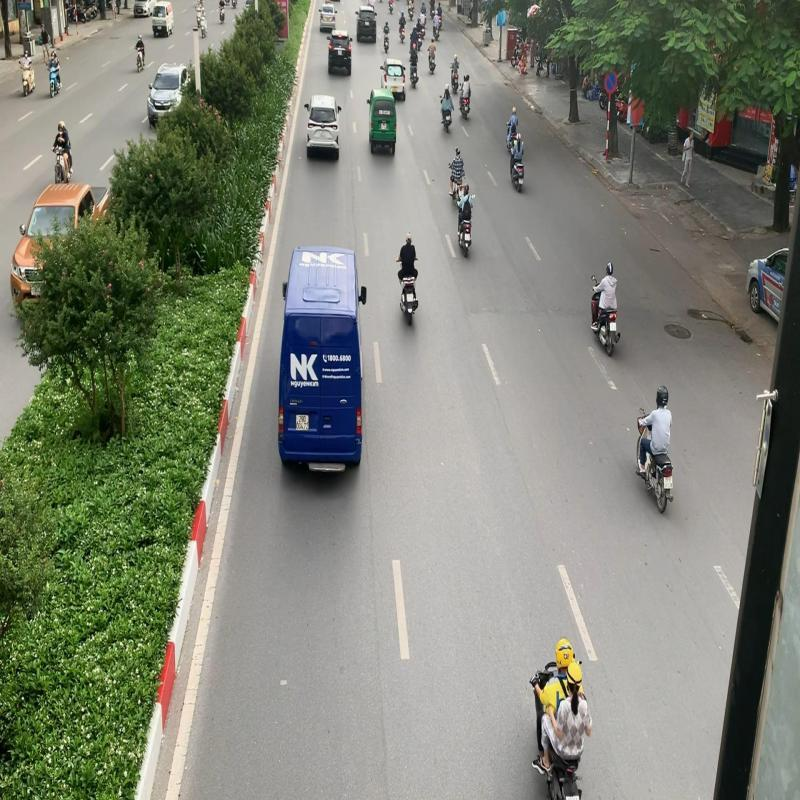helmet: (554, 636, 576, 672), (566, 660, 584, 696), (655, 386, 669, 408), (606, 262, 614, 276)
licenseplate: (664, 475, 674, 489), (610, 321, 617, 332), (407, 294, 413, 302)
motorcyclist: (528, 633, 594, 800), (634, 386, 676, 514), (590, 260, 622, 358), (395, 231, 420, 326)
nohelmet: (406, 232, 412, 244)
